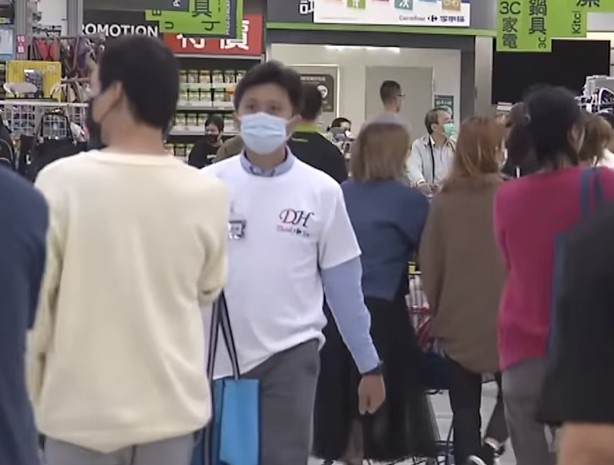face_with_mask: (80, 36, 178, 149), (233, 60, 301, 155), (457, 112, 512, 177), (424, 106, 459, 141), (201, 112, 225, 147)
